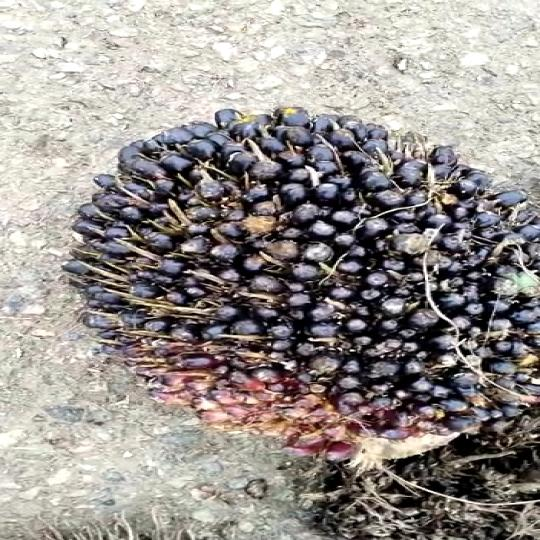mentah: (62, 86, 540, 453)
